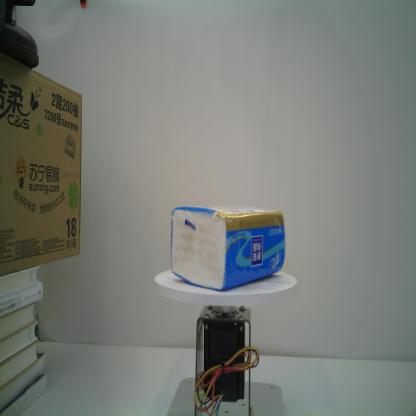Tissue: (168, 203, 287, 294)
